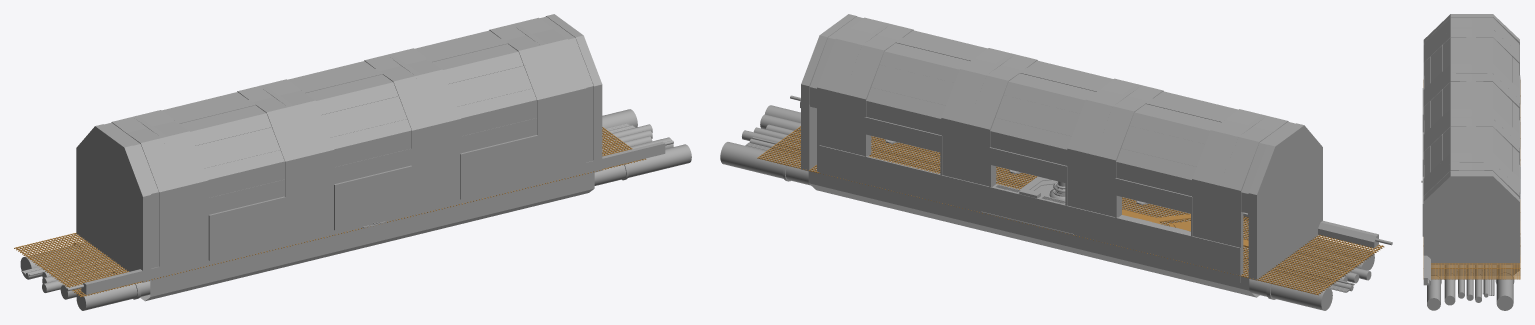
Rendered from spacehall.fbx.
3 views of the same model, side by side, from view 1: azimuth 30°, elevation 25°; view 2: azimuth 150°, elevation 25°; view 3: azimuth 270°, elevation 25° (orthographic). The views are drawn at different scales.
Visible parts, largest first — view 1: pPlane1, pPlane6, pCube15, pCube14, pCube16, pCube13, pCube324, curve16, curve18, curve17, pCube442, pCylinder11 (+11 smaller); view 2: pPlane1, pCube38, pPlane6, pCube324, pCube15, pCube16, pCube14, pCube13, pCylinder10, pPlane5, pCube6, pCube7 (+15 smaller); view 3: pPlane5, pPlane1, pCube13, pCube14, pCube15, pCube324, pCube16, pCylinder10, pCylinder11, pCylinder12, pPlane6, pCube375 (+16 smaller).
Boxes of the visible parts, left/top/right/bottom form: pPlane1: left=85, top=16, right=594, bottom=301; pPlane6: left=76, top=124, right=151, bottom=282; pCube15: left=111, top=110, right=208, bottom=276; pCube14: left=237, top=79, right=334, bottom=246; pCube16: left=489, top=17, right=586, bottom=184; pCube13: left=364, top=48, right=461, bottom=215; pCube324: left=14, top=127, right=646, bottom=296; curve16: left=334, top=165, right=411, bottom=230; curve18: left=460, top=135, right=537, bottom=199; curve17: left=208, top=196, right=285, bottom=260; pCube442: left=81, top=141, right=665, bottom=294; pCylinder11: left=76, top=144, right=691, bottom=310; pPlane1: left=808, top=16, right=1295, bottom=297; pCube38: left=819, top=145, right=1240, bottom=282; pPlane6: left=1248, top=123, right=1322, bottom=280; pCube324: left=757, top=126, right=1384, bottom=295; pCube15: left=1192, top=109, right=1288, bottom=274; pCube16: left=817, top=17, right=913, bottom=171; pCube14: left=1067, top=78, right=1163, bottom=216; pCube13: left=941, top=48, right=1037, bottom=186; pCylinder10: left=720, top=142, right=1332, bottom=310; pPlane5: left=801, top=14, right=856, bottom=171; pCube6: left=989, top=147, right=1067, bottom=205; pCube7: left=864, top=117, right=942, bottom=175; pPlane5: left=1423, top=173, right=1519, bottom=264; pPlane1: left=1424, top=17, right=1519, bottom=279; pCube13: left=1423, top=109, right=1519, bottom=176; pCube14: left=1423, top=64, right=1519, bottom=131; pCube15: left=1423, top=19, right=1519, bottom=87; pCube324: left=1423, top=80, right=1520, bottom=279; pCube16: left=1423, top=153, right=1519, bottom=198; pCylinder10: left=1495, top=265, right=1514, bottom=310; pCylinder11: left=1427, top=265, right=1441, bottom=310; pCylinder12: left=1444, top=265, right=1455, bottom=305; pPlane6: left=1423, top=14, right=1519, bottom=74; pCube375: left=1466, top=81, right=1475, bottom=109.
Size of the model in its own units: 65.07 by 14.63 by 12.4.
